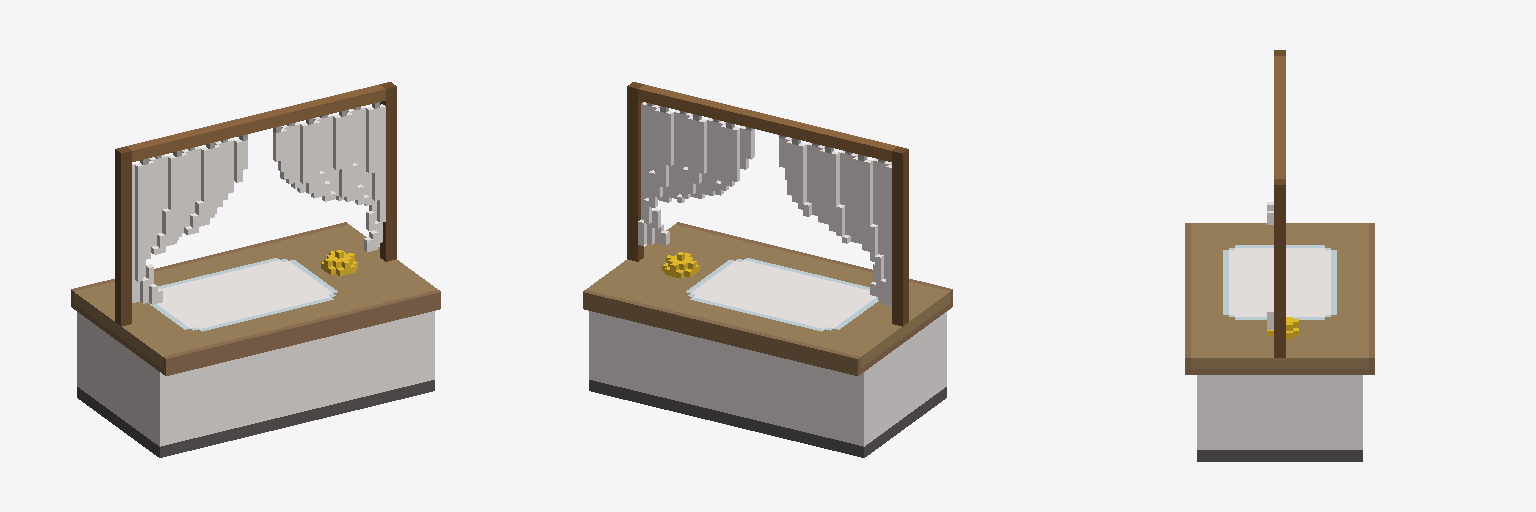
The picture shows the model from 3 angles: view 1: azimuth 30°, elevation 25°; view 2: azimuth 150°, elevation 25°; view 3: azimuth 270°, elevation 25°; orthographic projection.
Visible parts, largest first — view 1: object 1; view 2: object 1; view 3: object 1.
Boxes of the visible parts, <box> form: object 1: <box>71,82,440,457</box>; object 1: <box>583,82,952,457</box>; object 1: <box>1185,50,1374,461</box>.
Bounding box in the file's own units: 5 × 4.8 × 3.
1 materials, 1 textured.